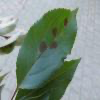Apple Scab Leaf: (15, 5, 79, 90)
